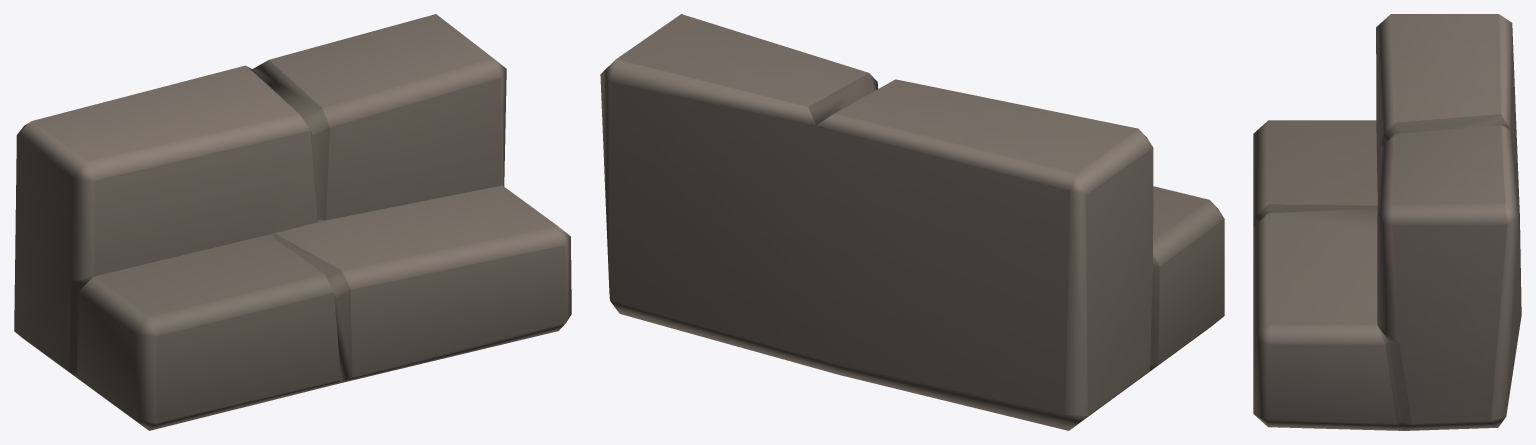
Rendered from elf_stairs_half_1_shade_5.fbx.
The picture shows the model from 3 angles, left to right: view 1: azimuth 30°, elevation 25°; view 2: azimuth 150°, elevation 25°; view 3: azimuth 270°, elevation 25°; orthographic projection. The views are drawn at different scales.
Parts seen in each view (by area): view 1: elf_stairs_half_1_shade_5; view 2: elf_stairs_half_1_shade_5; view 3: elf_stairs_half_1_shade_5.
Boxes of the visible parts, x1,y1,x2,y2 form: elf_stairs_half_1_shade_5: (14, 14, 571, 430); elf_stairs_half_1_shade_5: (600, 14, 1224, 430); elf_stairs_half_1_shade_5: (1253, 14, 1521, 430).
Size of the model in its own units: 100 by 50.87 by 54.57.
